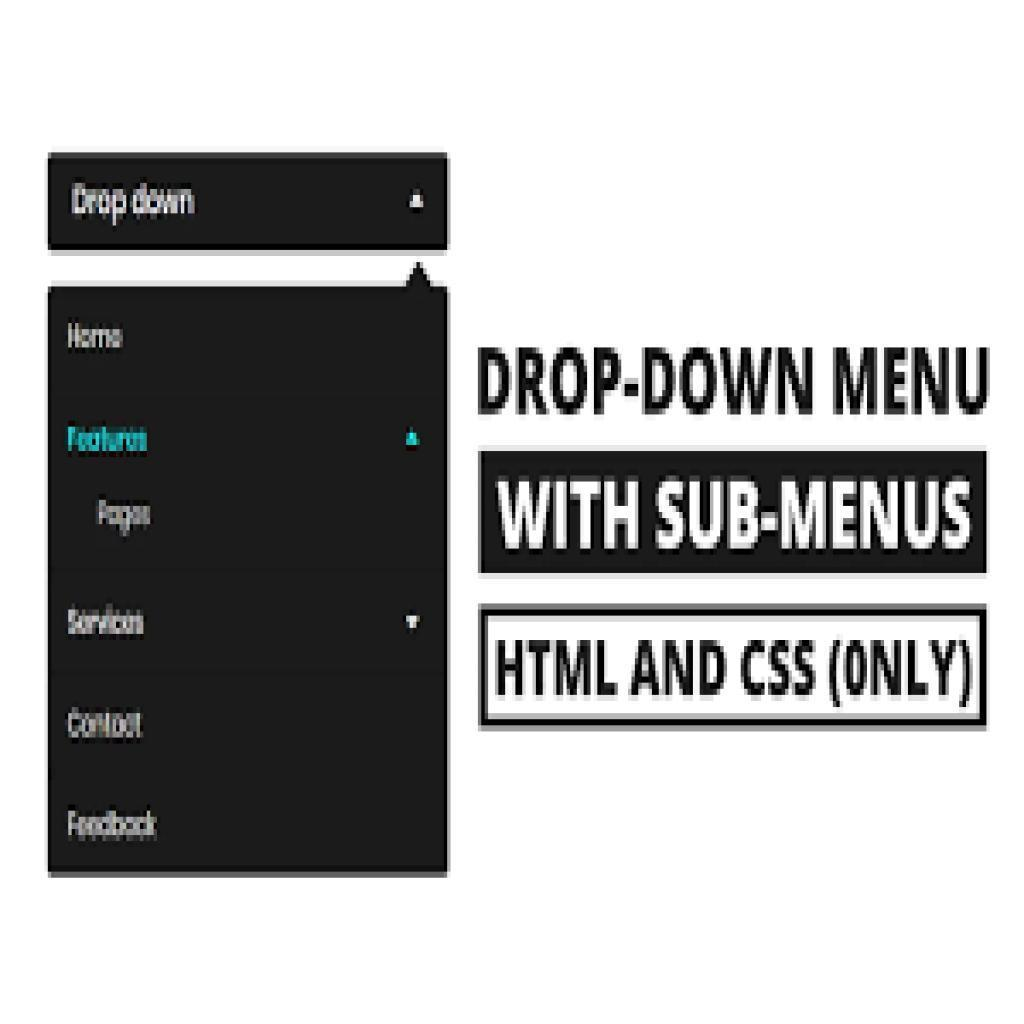dropdown: (52, 155, 448, 256)
